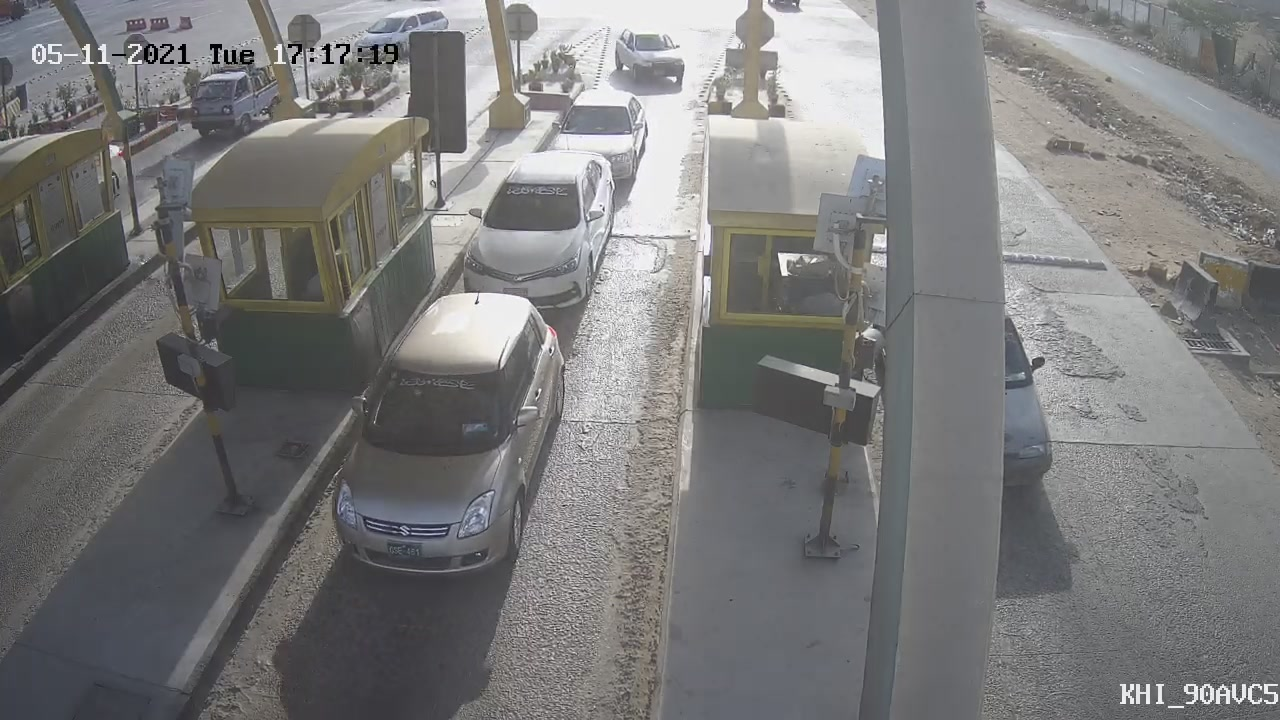F1: (303, 277, 591, 600), (444, 142, 627, 322)
